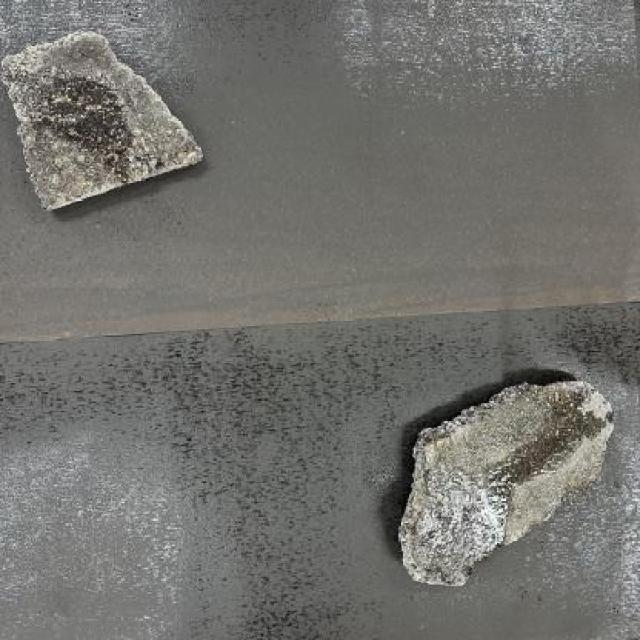Road Debris: (24, 74, 178, 192), (475, 390, 608, 484), (426, 476, 500, 570)
